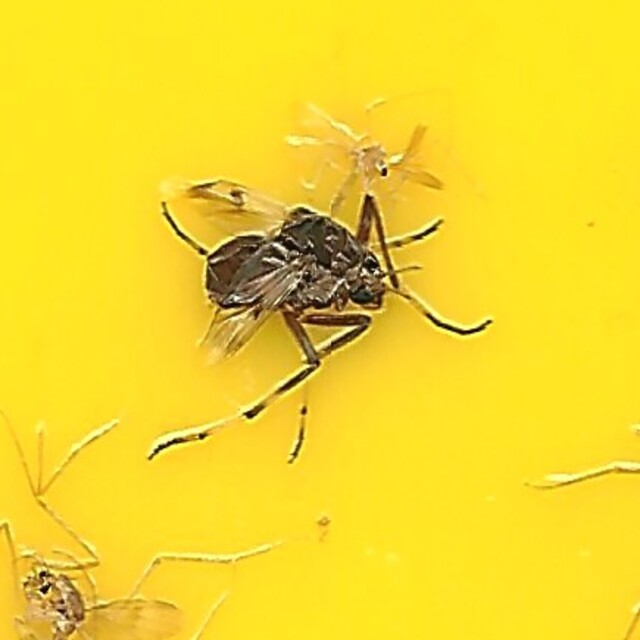Hymenoptera: (147, 171, 493, 469)
